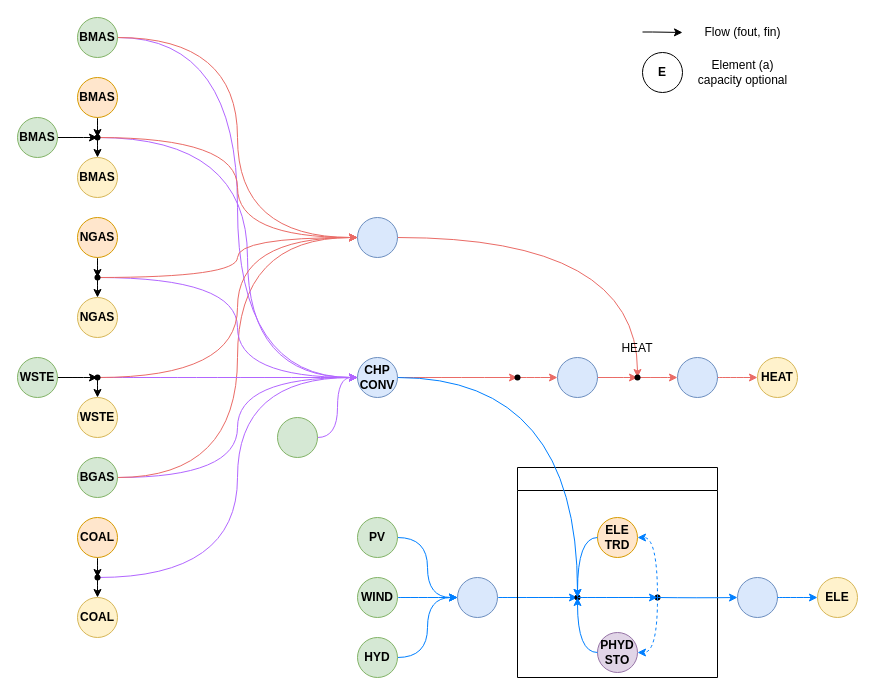
The diagram is 875 pixels wide and 695 high, and some of its shapes have lost their labels. Here are the shapes that lost their labels. From the top down, the box of each, then its label:
(356, 216, 398, 258): HEAT CONV
(496, 356, 538, 398): CHP heat
(556, 356, 598, 398): CHP TS
(676, 356, 718, 398): HEAT TS
(276, 416, 318, 458): URAN
(516, 466, 718, 678): Electricity supply
(456, 576, 498, 618): ELE CONV
(736, 576, 778, 618): ELE TS
